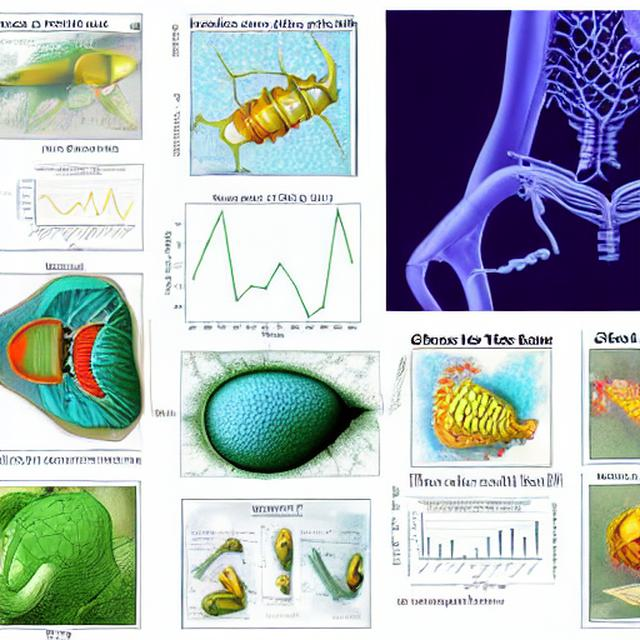Graph: (157, 177, 383, 347), (405, 499, 545, 583), (14, 166, 135, 247)
